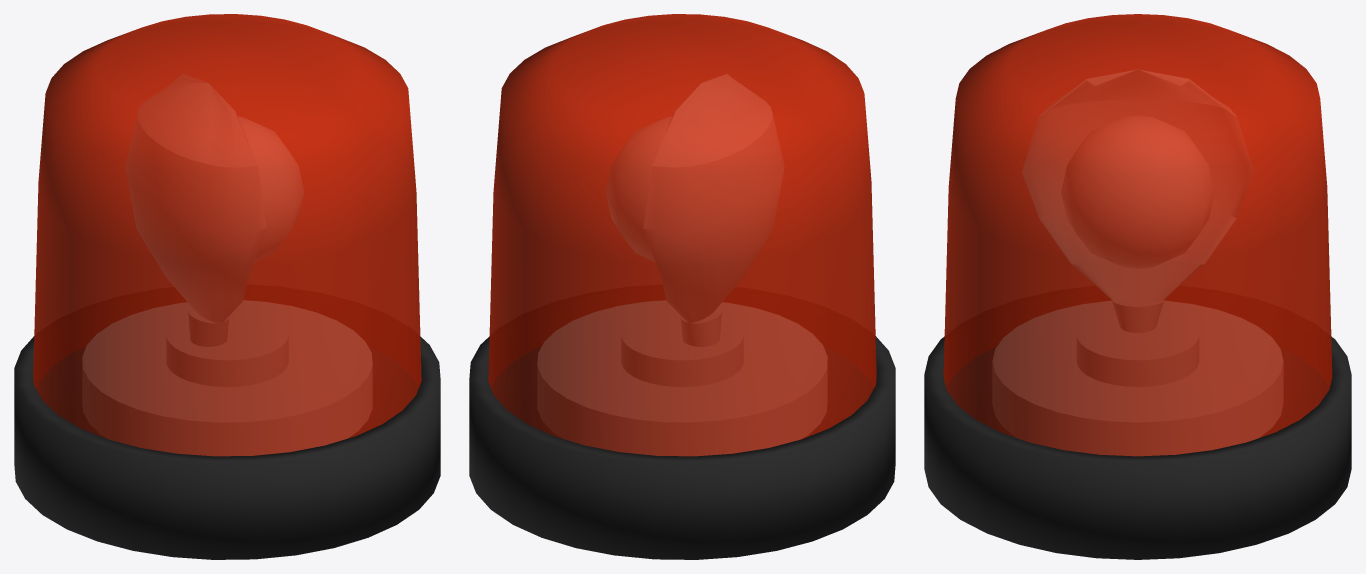
The model's file is alarmLight_3.fbx.
The picture shows the model from 3 angles, left to right: view 1: azimuth 30°, elevation 25°; view 2: azimuth 150°, elevation 25°; view 3: azimuth 270°, elevation 25°; orthographic projection.
Visible parts, largest first — view 1: Glass, Socket_001, Rotator, Sphere; view 2: Glass, Socket_001, Rotator, Sphere; view 3: Glass, Socket_001, Rotator, Sphere.
Part boxes in pixels (bbox=[...]): Glass: bbox=[33, 14, 421, 456]; Socket_001: bbox=[83, 74, 371, 455]; Rotator: bbox=[14, 336, 440, 559]; Sphere: bbox=[238, 117, 303, 261]; Glass: bbox=[488, 14, 876, 456]; Socket_001: bbox=[538, 74, 826, 455]; Rotator: bbox=[469, 336, 895, 559]; Sphere: bbox=[606, 117, 671, 261]; Glass: bbox=[943, 14, 1332, 456]; Socket_001: bbox=[993, 70, 1282, 455]; Rotator: bbox=[924, 336, 1351, 559]; Sphere: bbox=[1061, 116, 1214, 268].
Bounding box in the file's own units: 0.5 × 0.5324 × 0.5.
